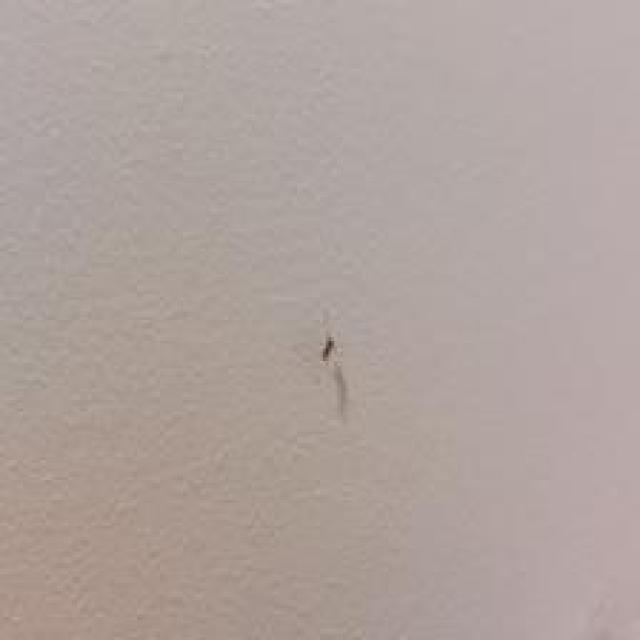Culex: (321, 334, 336, 360)
